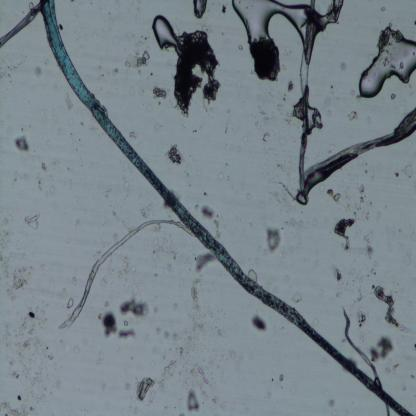Air bubble: (357, 21, 416, 101), (231, 0, 314, 50), (147, 14, 184, 54), (190, 0, 211, 20)
Background material: (160, 307, 224, 382), (177, 22, 228, 111), (339, 298, 382, 378), (370, 278, 405, 330), (248, 36, 285, 84), (99, 306, 135, 347), (116, 292, 152, 324), (3, 258, 30, 294), (190, 252, 209, 294), (182, 384, 210, 412), (368, 330, 392, 361), (336, 218, 359, 250), (140, 78, 170, 102), (18, 206, 44, 233), (124, 45, 149, 73), (200, 196, 219, 230), (131, 376, 155, 401), (0, 399, 35, 416), (265, 224, 284, 252), (248, 310, 269, 333), (356, 182, 369, 216), (14, 127, 31, 152), (22, 332, 43, 350), (289, 280, 302, 305), (324, 186, 342, 204), (169, 146, 182, 170), (365, 240, 377, 263), (329, 262, 344, 280), (247, 265, 258, 284), (402, 163, 416, 177), (43, 348, 56, 362), (283, 76, 293, 92), (257, 131, 270, 143), (276, 370, 286, 385), (96, 349, 104, 366), (27, 308, 38, 320), (352, 106, 360, 120), (10, 371, 21, 381), (338, 60, 346, 72), (14, 393, 25, 401), (388, 92, 397, 101), (328, 84, 334, 90), (380, 6, 386, 12)
Cellulose filter fibre: (291, 12, 416, 202), (61, 214, 187, 328)
Microfibre: (0, 1, 411, 416)
